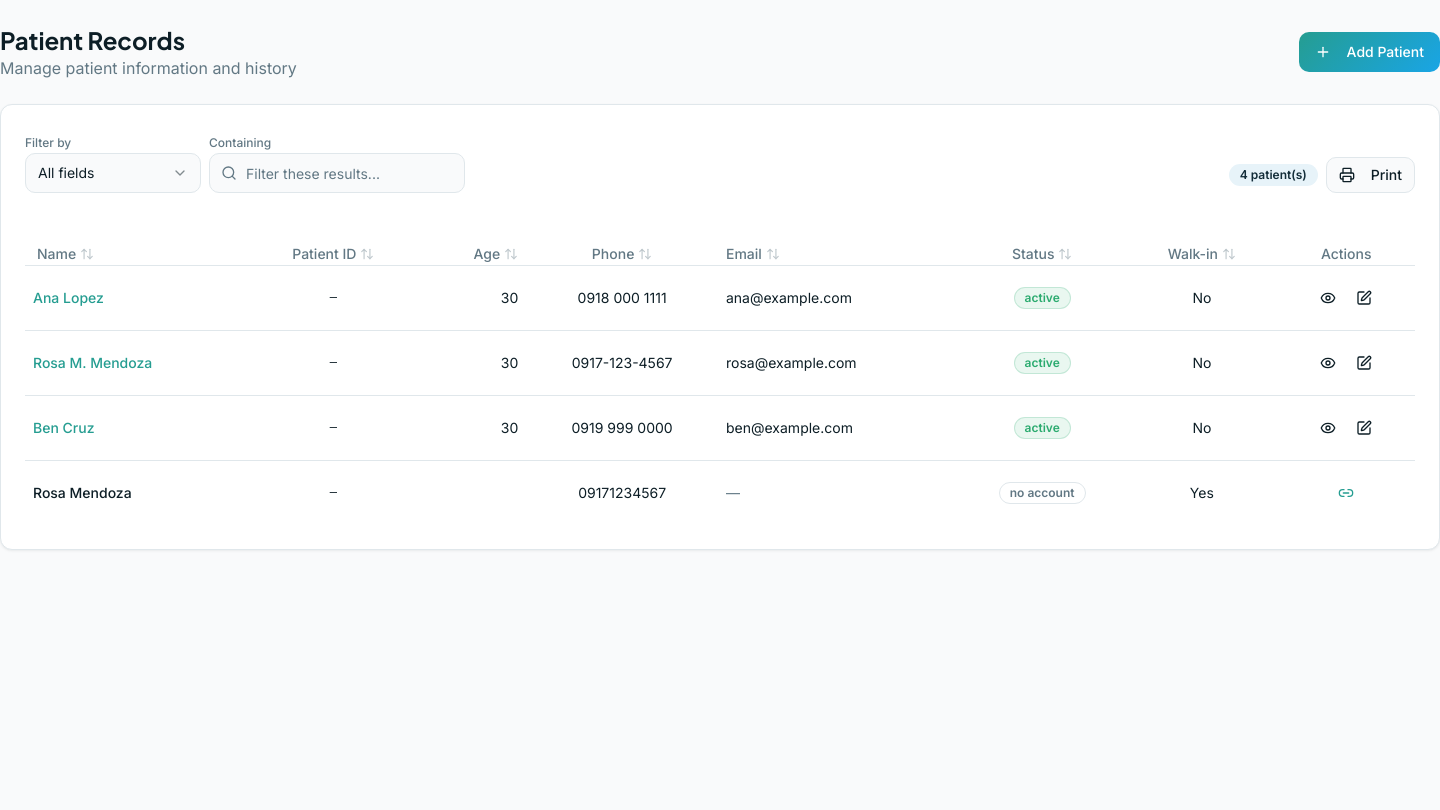
Test case: linking a guest to the account they made › compares the guest with the chosen account, field by field
Click the button named "Link Rosa Mendoza (09171234567) to an account" at (1346, 492), box [1330, 476, 1362, 508]
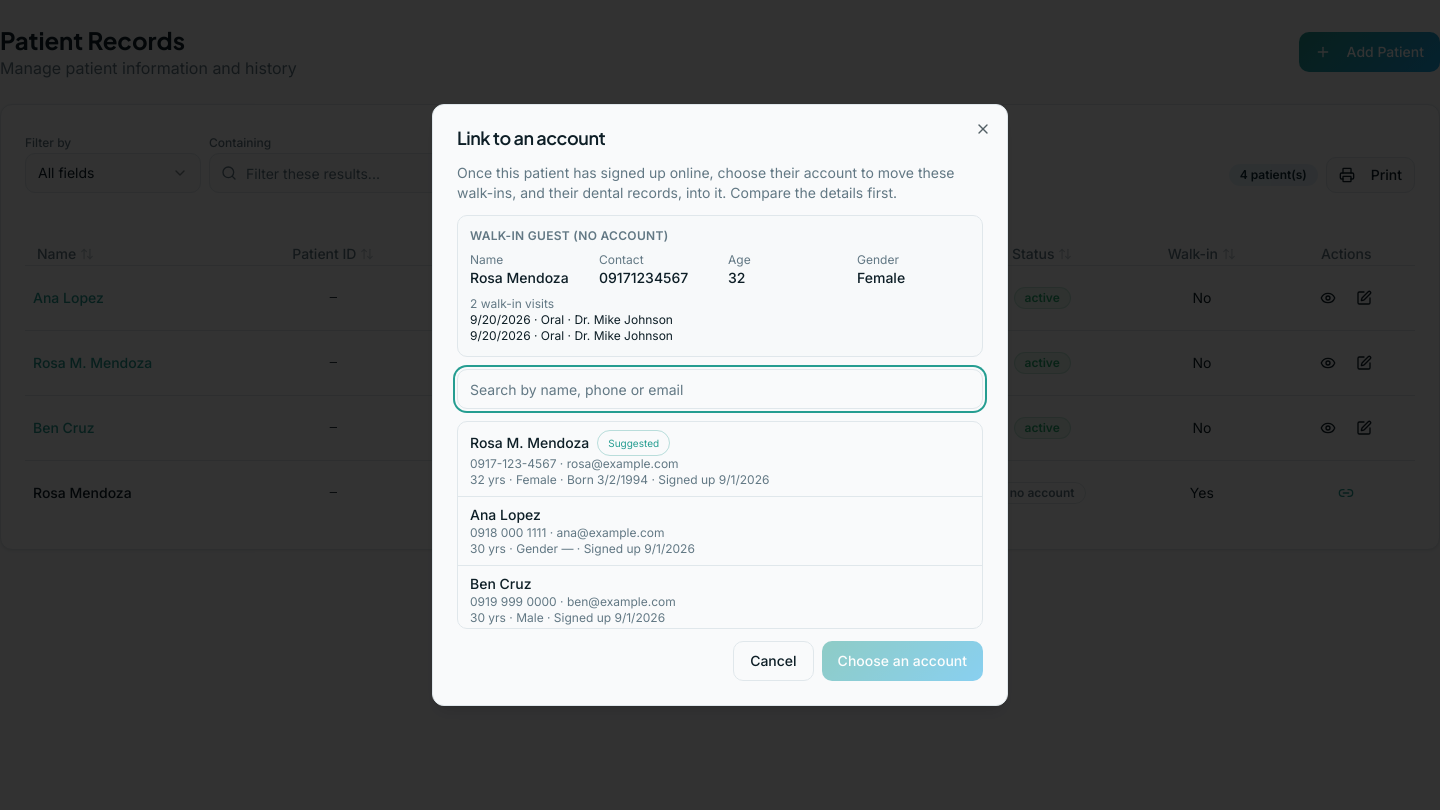
Expected: the element "Compare before linking" is not shown
Click the option "Rosa M. Mendoza" at (530, 442), box [458, 422, 982, 496]
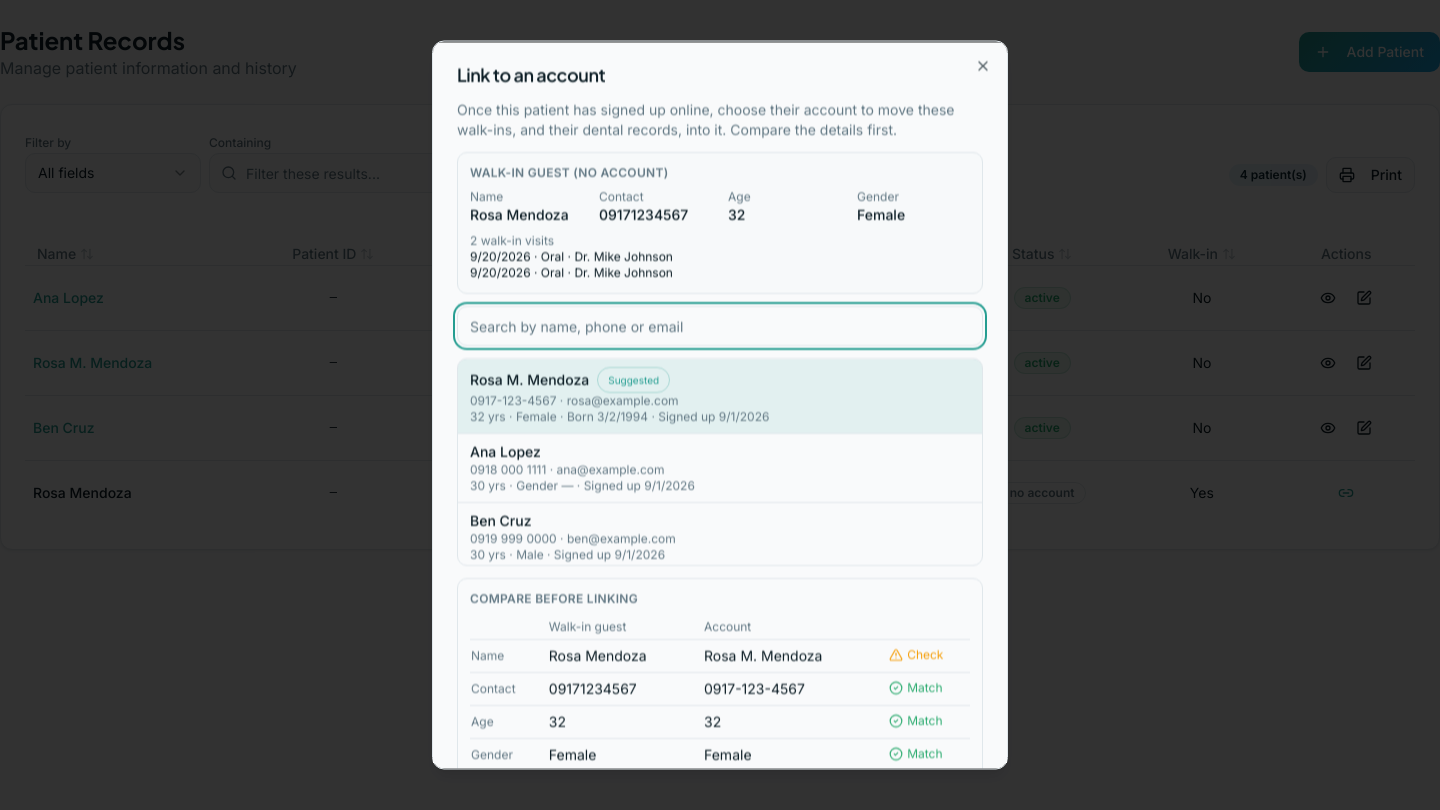
Now the element showing "Check" is shown, box [889, 646, 944, 662]
Now the 1st element showing "Match" is shown, box [889, 679, 942, 695]
Click the option "Ben Cruz" at (501, 520), box [458, 502, 982, 570]
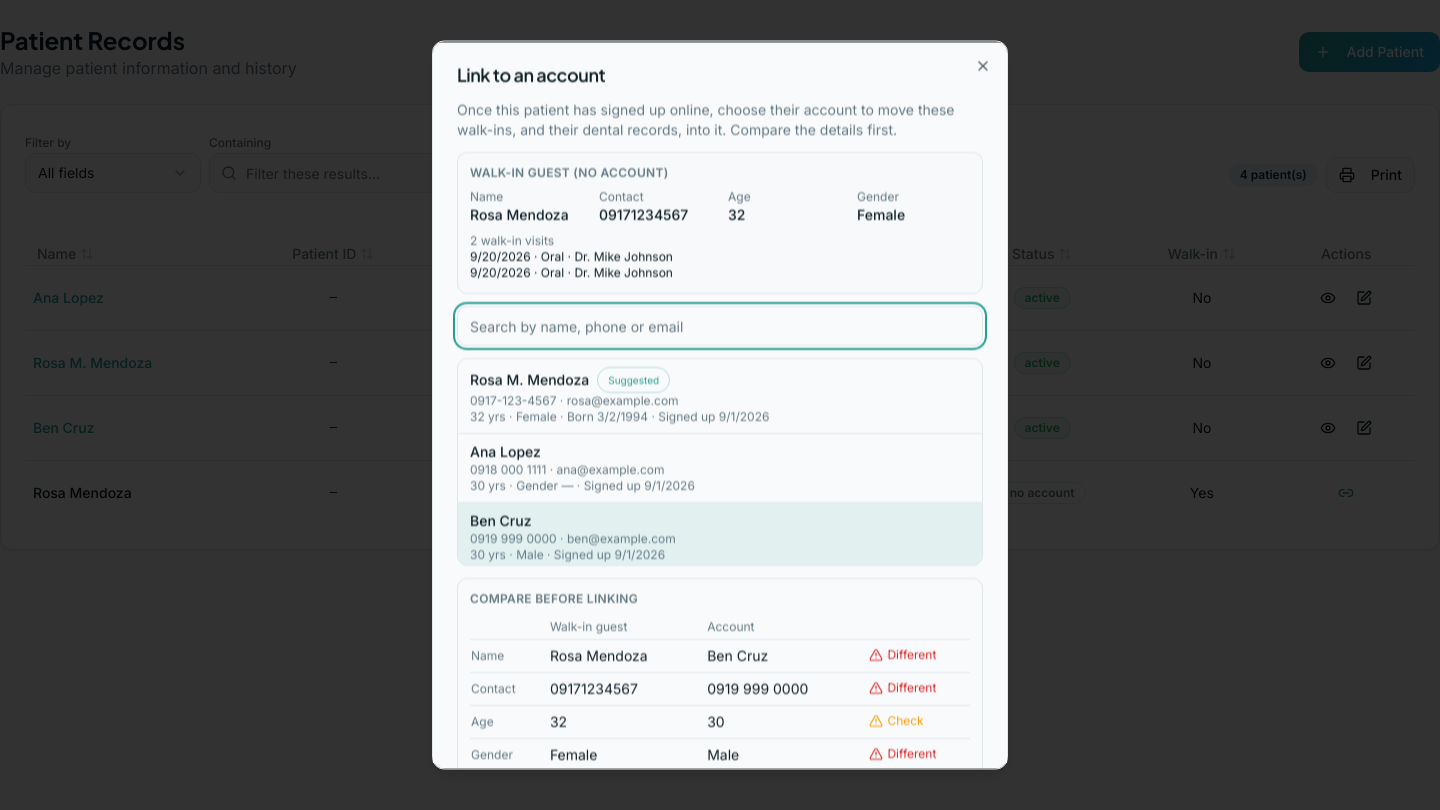
Now the 1st element showing "Different" is shown, box [869, 646, 936, 662]
